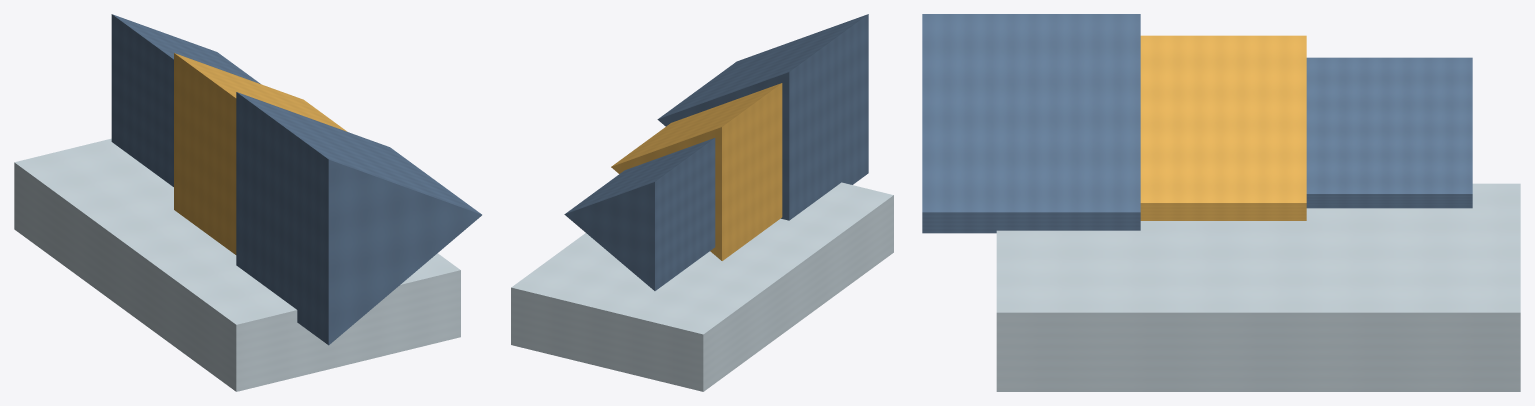
File: atlas100-s053-a05.lod2.glb
3 renders of one model, left to right at view 1: azimuth 30°, elevation 25°; view 2: azimuth 150°, elevation 25°; view 3: azimuth 270°, elevation 25°, orthographic. The views are drawn at different scales.
Parts seen in each view (by area): view 1: atlas100-s053-a05:part-004, atlas100-s053-a05:part-002, atlas100-s053-a05:part-001, atlas100-s053-a05:part-000; view 2: atlas100-s053-a05:part-004, atlas100-s053-a05:part-002, atlas100-s053-a05:part-000, atlas100-s053-a05:part-001; view 3: atlas100-s053-a05:part-004, atlas100-s053-a05:part-002, atlas100-s053-a05:part-001, atlas100-s053-a05:part-000.
Part boxes in pixels (x1=…): atlas100-s053-a05:part-004: x1=14, y1=138, x2=460, y2=391; atlas100-s053-a05:part-002: x1=236, y1=92, x2=481, y2=345; atlas100-s053-a05:part-001: x1=174, y1=53, x2=347, y2=254; atlas100-s053-a05:part-000: x1=111, y1=14, x2=260, y2=186; atlas100-s053-a05:part-004: x1=511, y1=182, x2=893, y2=391; atlas100-s053-a05:part-002: x1=657, y1=14, x2=868, y2=220; atlas100-s053-a05:part-000: x1=564, y1=138, x2=715, y2=290; atlas100-s053-a05:part-001: x1=611, y1=83, x2=782, y2=260; atlas100-s053-a05:part-004: x1=996, y1=183, x2=1520, y2=391; atlas100-s053-a05:part-002: x1=922, y1=14, x2=1140, y2=233; atlas100-s053-a05:part-001: x1=1140, y1=35, x2=1306, y2=220; atlas100-s053-a05:part-000: x1=1306, y1=57, x2=1472, y2=208.
Size of the model in its own units: 0.3822 by 0.3916 by 0.748.
3 materials, 3 textured.
